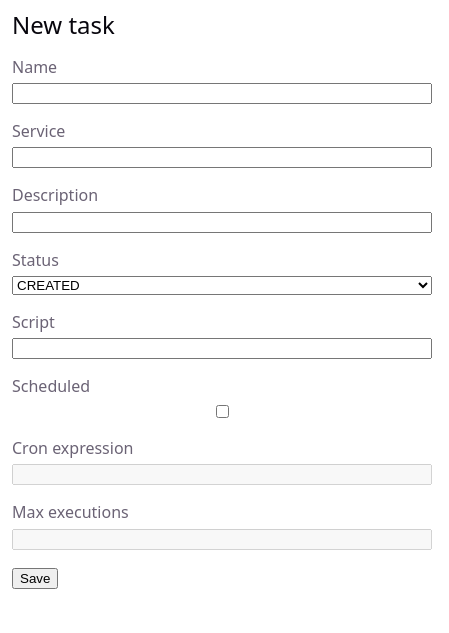
Test case: TaskFormPage - create › surfaces the 409 duplicate-name error on the name field
Type "backup" into the field labelled "Name". click: (222, 94)
box: [12,83,432,104]
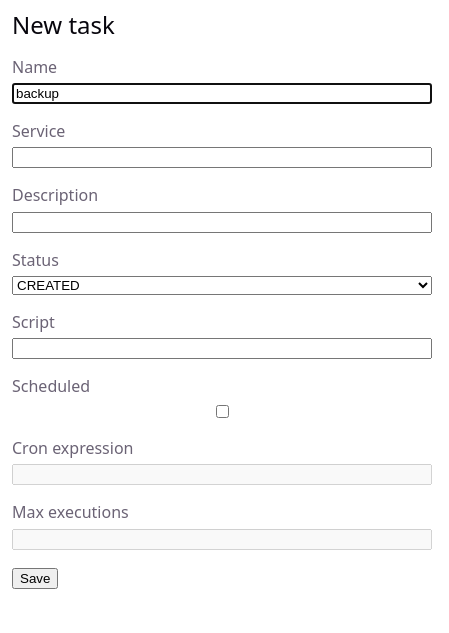
Type "svc" into the field labelled "Service". click: (222, 158)
box: [12,147,432,168]
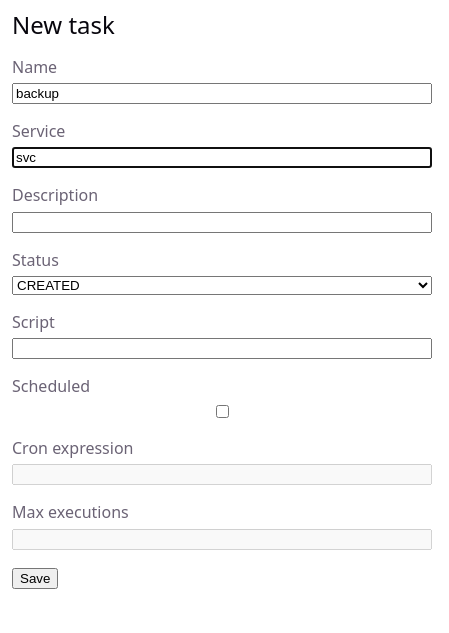
Type "/s.sh" into the field labelled "Script". click: (222, 348)
box: [12,338,432,359]
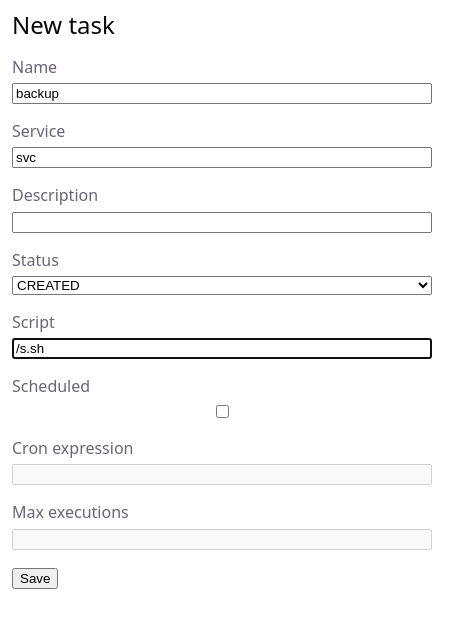
Click the button "Save". click: (35, 578)
box: [12,568,58,589]
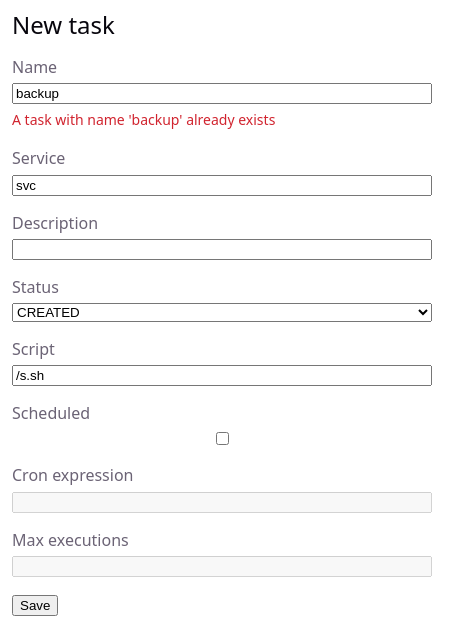
Result: the text "A task with name 'backup' already exists" is shown at [12,110,275,129]
